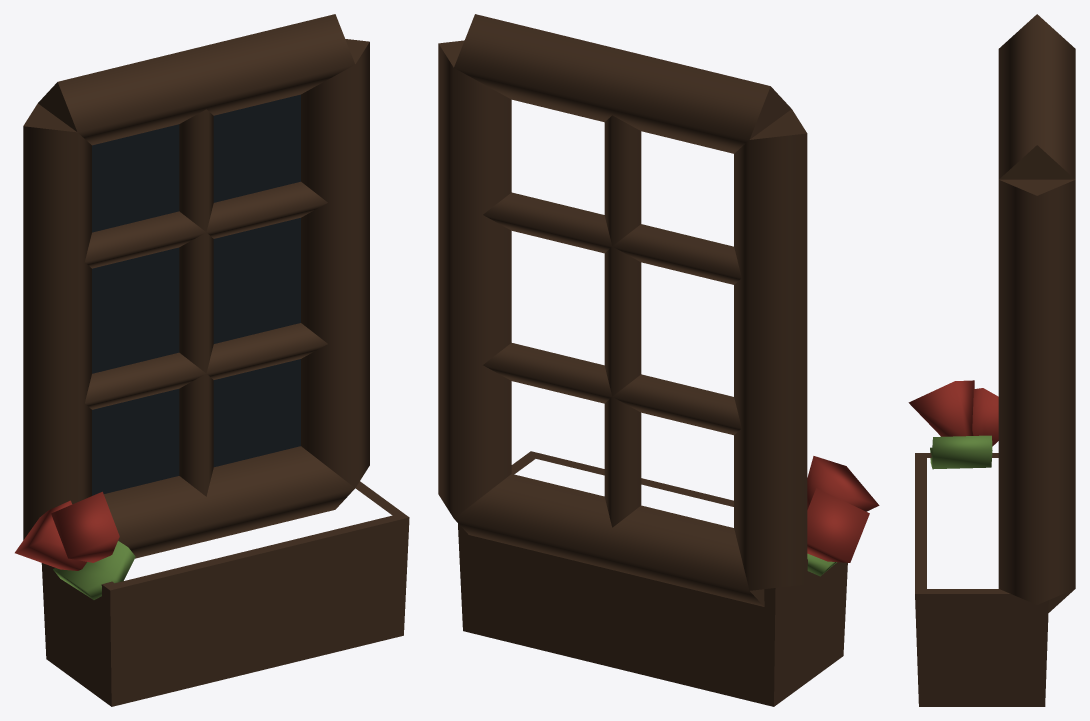
Rendered from casement_flowers_01.glb.
The picture shows the model from 3 angles, left to right: view 1: azimuth 30°, elevation 25°; view 2: azimuth 150°, elevation 25°; view 3: azimuth 270°, elevation 25°; orthographic projection. The views are drawn at different scales.
Parts seen in each view (by area): view 1: window_casement_flowers_01; view 2: window_casement_flowers_01; view 3: window_casement_flowers_01.
Part boxes in pixels (<box>): window_casement_flowers_01: <box>15,14,409,706</box>; window_casement_flowers_01: <box>438,14,879,706</box>; window_casement_flowers_01: <box>908,14,1075,706</box>.
Bounding box in the file's own units: 0.8625 × 1.28 × 0.3483.
